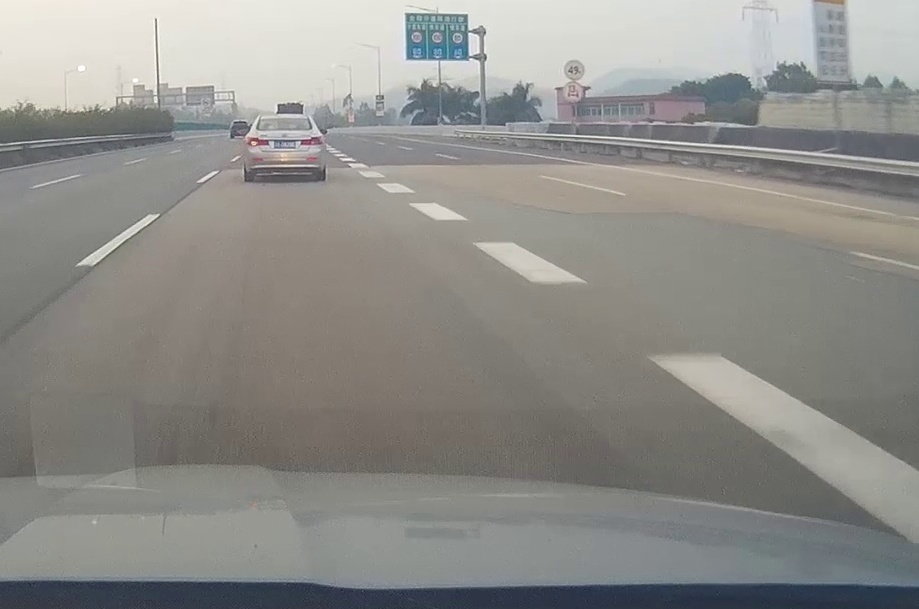L_light: (246, 137, 268, 146)
R_light: (301, 136, 322, 145)
T_light: (279, 118, 292, 120)
day-left: (244, 115, 326, 182)
